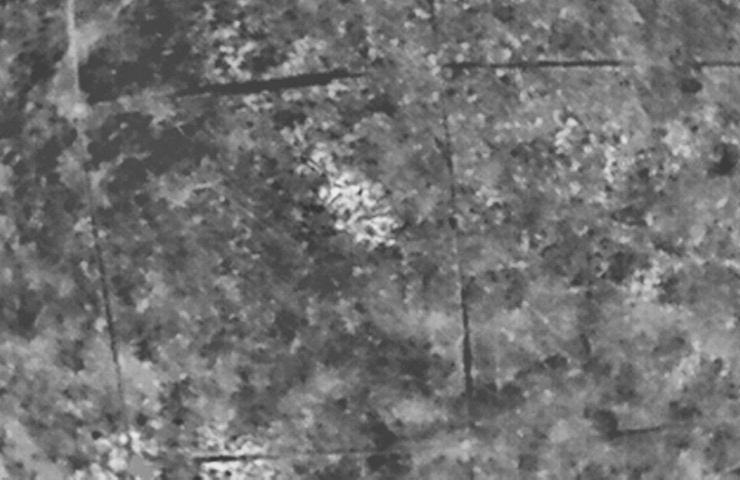landmines: (319, 166, 403, 244)
